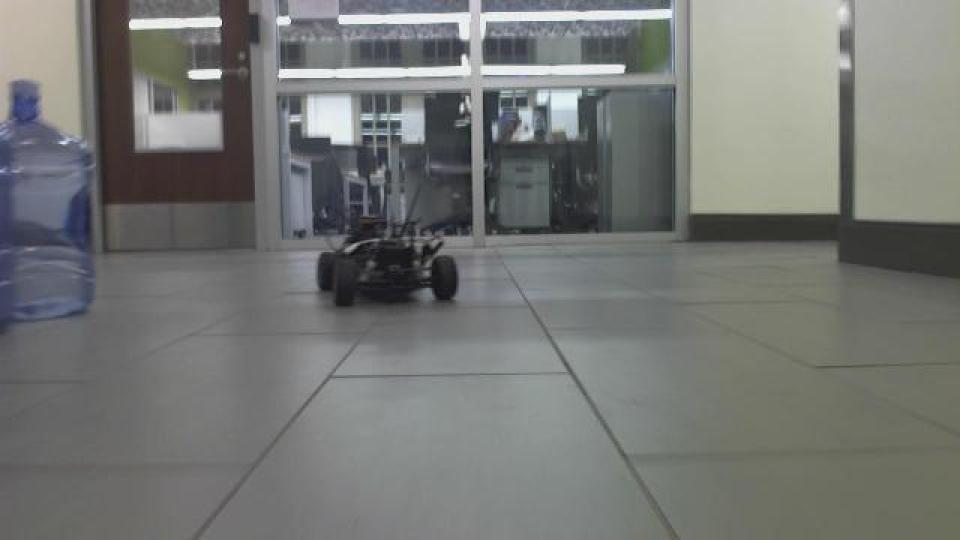car: (312, 215, 460, 309)
